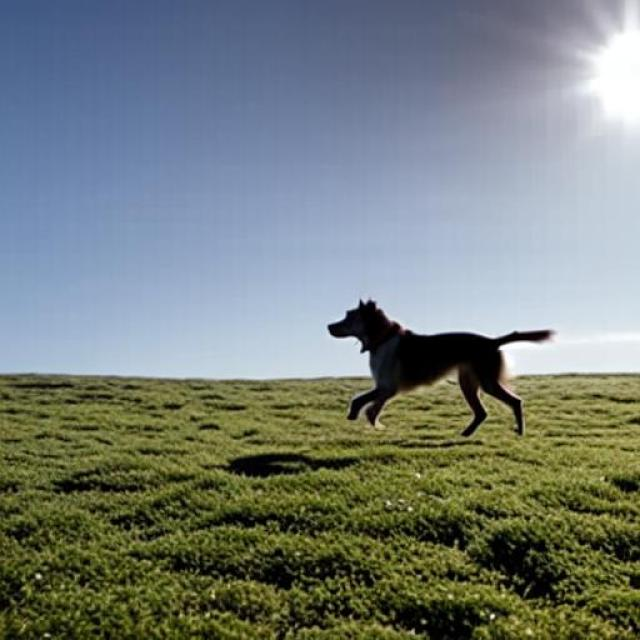Dog: (327, 296, 557, 436)
